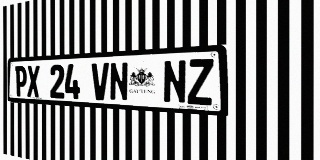2: (50, 64, 64, 99)
4: (65, 64, 80, 99)
N: (163, 60, 187, 104), (110, 62, 128, 102)
P: (15, 66, 27, 97)
V: (92, 63, 109, 101)
X: (27, 65, 40, 97)
Z: (188, 58, 214, 105)
